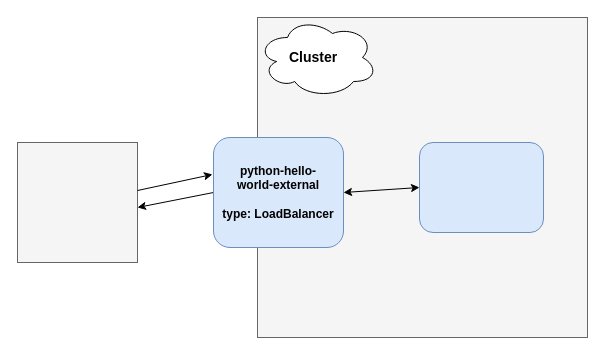
Some shapes in this 605 by 355 pixel diagram are drawn without their labels. Here are the shapes that lost their labels. From the top down, the centre of each, then its label:
At (77,202): "Local Web Browser".
At (481,187): "python-hello-world".
